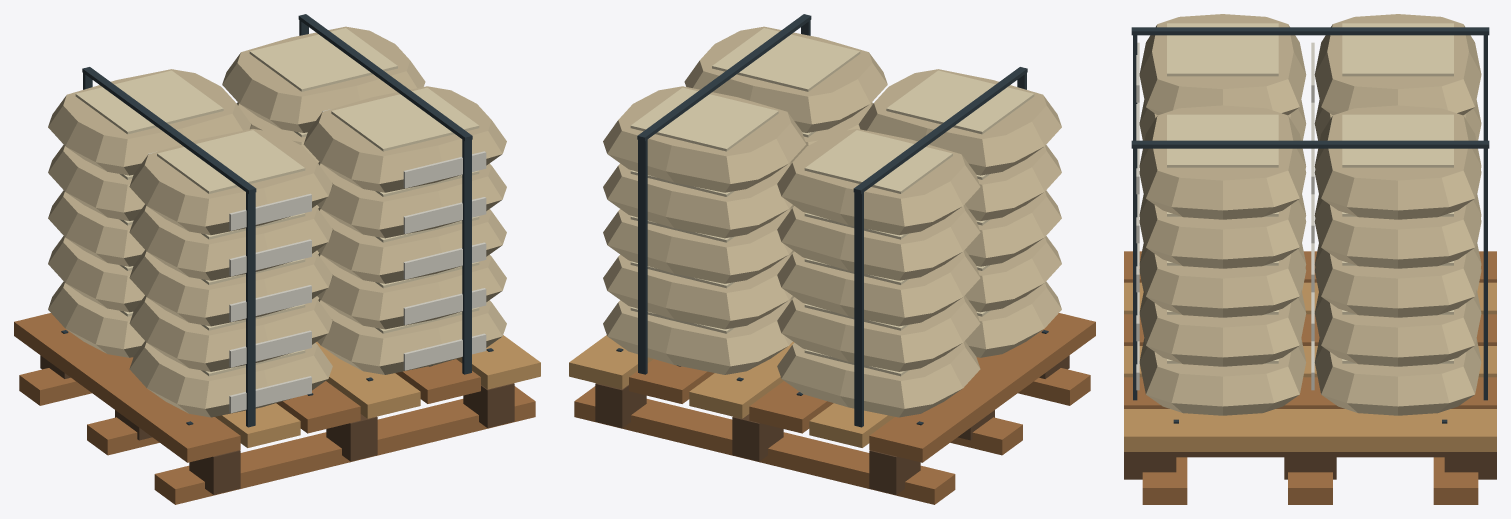
File: b14_pallet_bagged_mortar.glb
3 renders of one model, left to right at view 1: azimuth 30°, elevation 25°; view 2: azimuth 150°, elevation 25°; view 3: azimuth 270°, elevation 25°, orthographic. The views are drawn at different scales.
Parts seen in each view (by area): view 1: b14_pallet_bagged_mortar; view 2: b14_pallet_bagged_mortar; view 3: b14_pallet_bagged_mortar.
Boxes of the visible parts, x1=… form: b14_pallet_bagged_mortar: x1=14, y1=14, x2=540, y2=504; b14_pallet_bagged_mortar: x1=569, y1=14, x2=1095, y2=504; b14_pallet_bagged_mortar: x1=1124, y1=14, x2=1496, y2=504.
Size of the model in its own units: 1.2 by 0.96 by 1.
